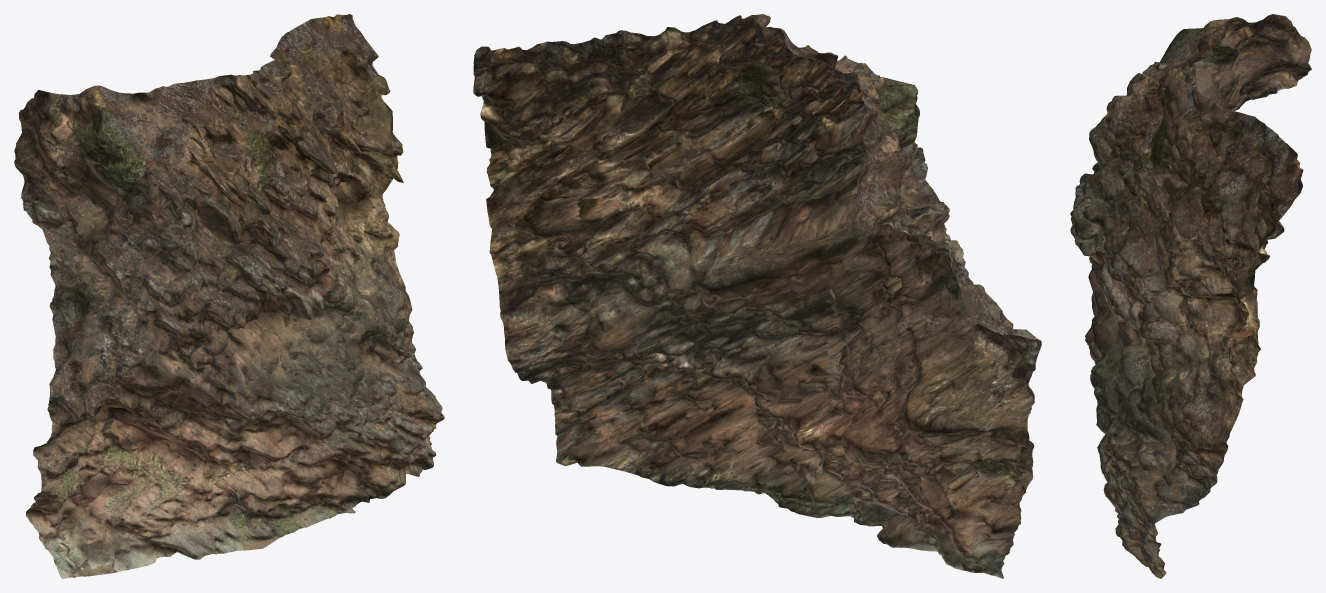
File: mountainside.glb
3 views of the same model, side by side, from view 1: azimuth 30°, elevation 25°; view 2: azimuth 150°, elevation 25°; view 3: azimuth 270°, elevation 25° (orthographic). The views are drawn at different scales.
Visible parts, largest first — view 1: mountainside; view 2: mountainside; view 3: mountainside.
Boxes of the visible parts, x1,y1,x2,y2 form: mountainside: (14, 14, 444, 578); mountainside: (473, 14, 1041, 578); mountainside: (1070, 14, 1311, 578).
Bounding box in the file's own units: 10.21 × 10.52 × 5.25.
1 material, 1 textured.
